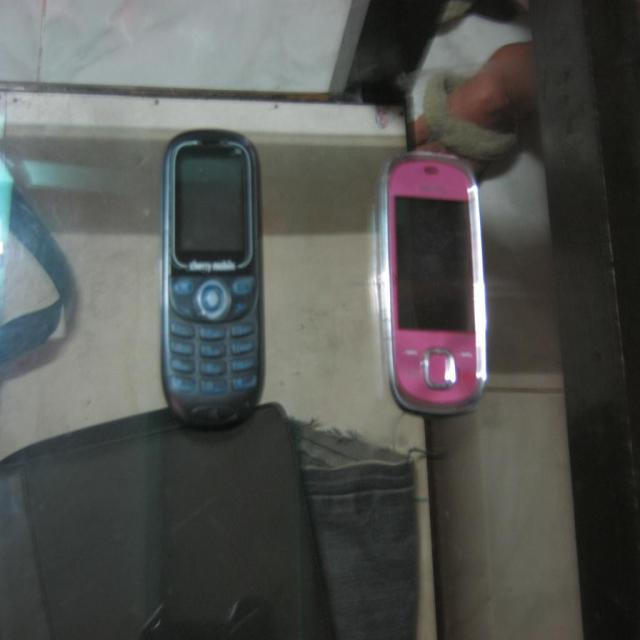Phone: (163, 129, 263, 429), (378, 149, 490, 414)
